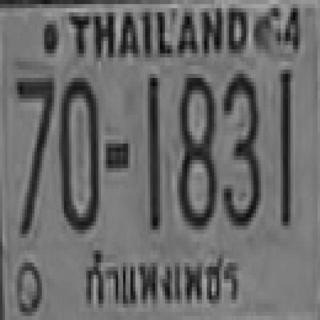N00: (59, 74, 98, 230)
N01: (146, 74, 159, 226), (278, 70, 290, 226)
N03: (222, 70, 258, 226)
N07: (16, 74, 53, 234)
N08: (177, 72, 214, 228)
P16: (77, 242, 247, 319)
